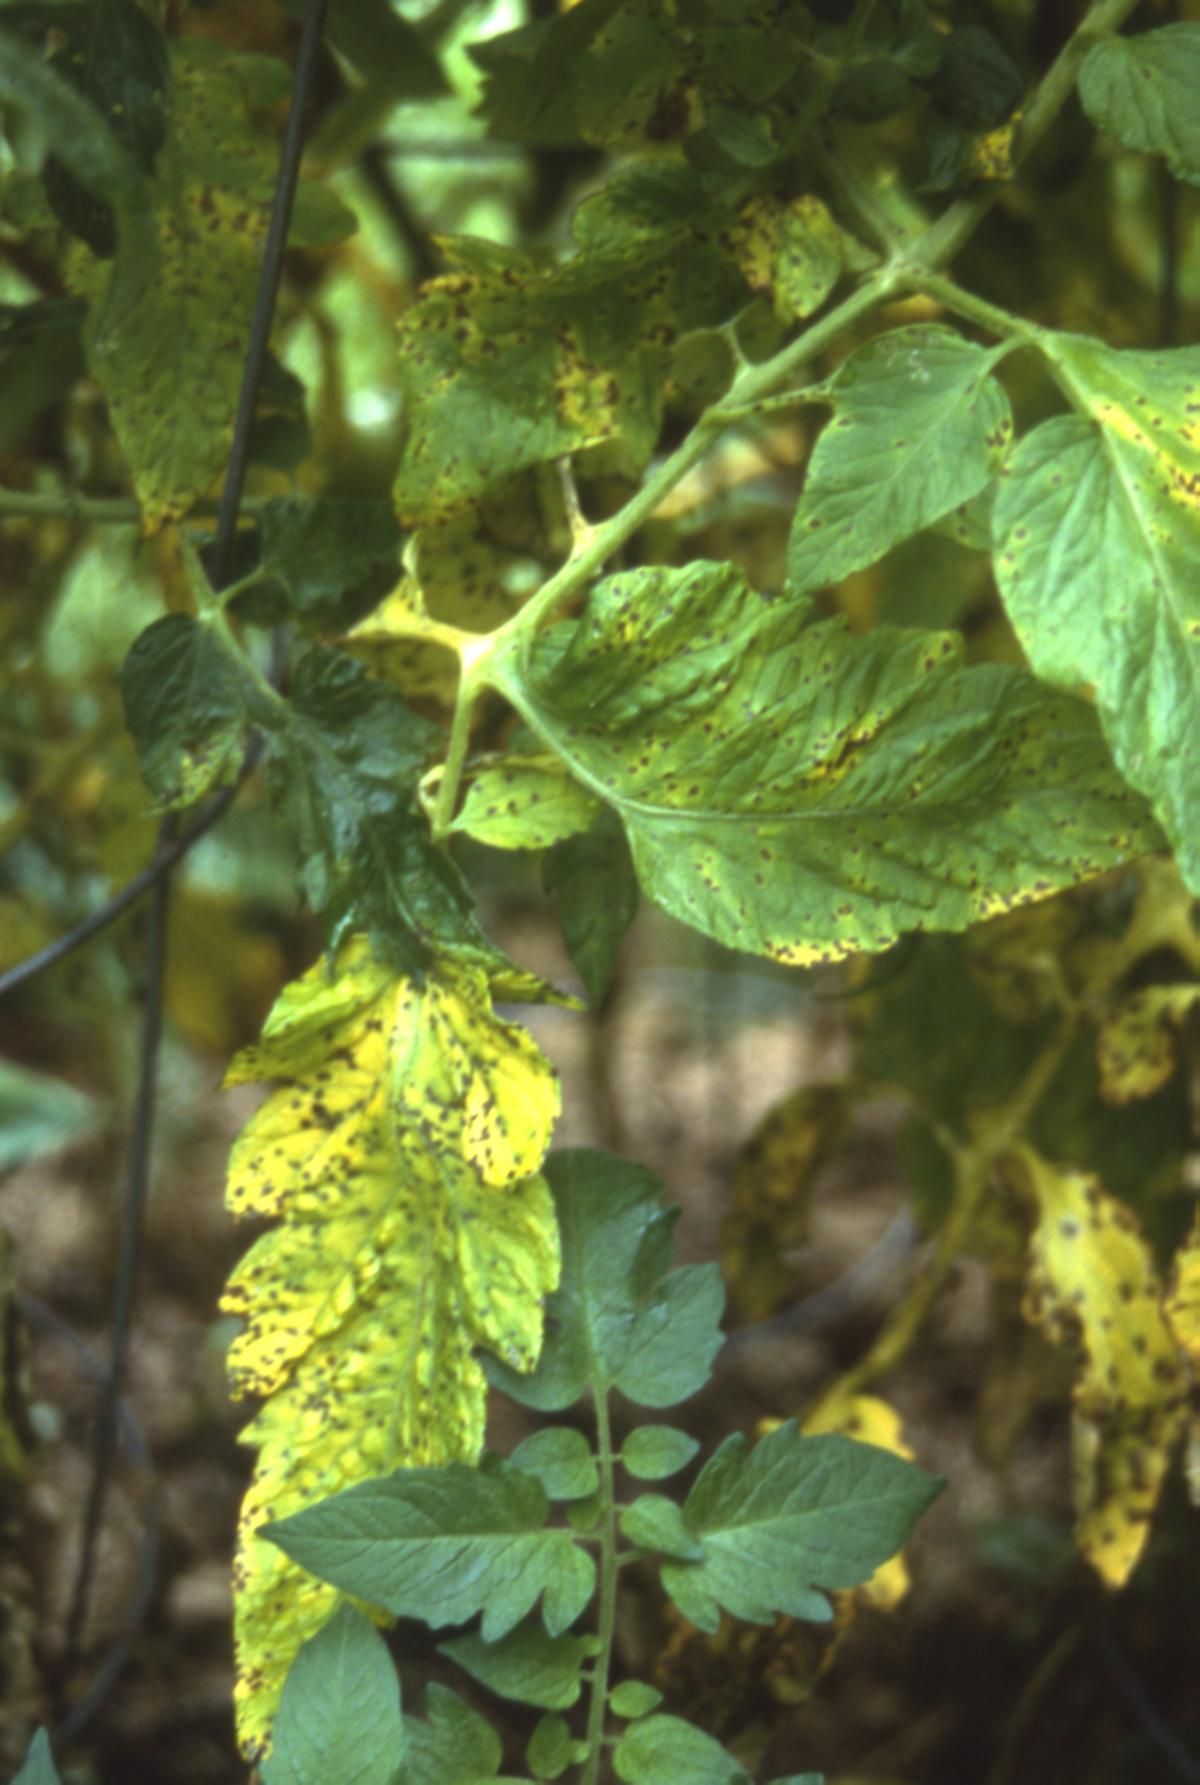Tomato Septoria leaf spot: (446, 520, 1160, 1002), (214, 834, 579, 1750), (742, 266, 1046, 619)
